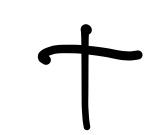plus: (38, 25, 143, 130)
